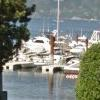Boat: (14, 35, 85, 79)
